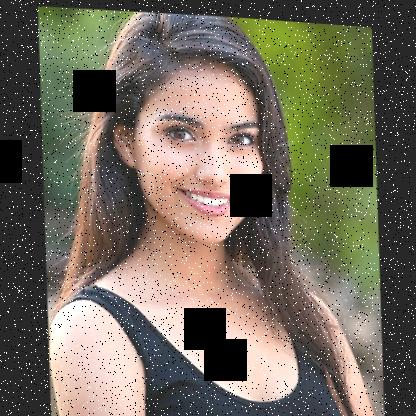Female: (108, 49, 264, 244)
